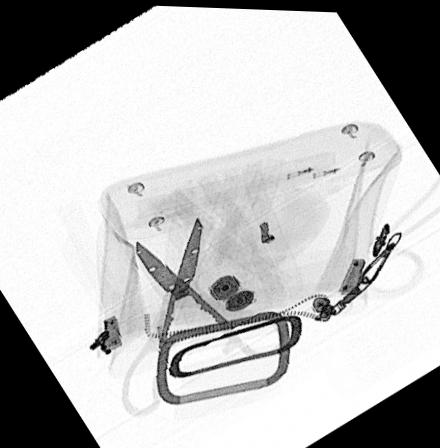Scissors: (120, 214, 294, 417)
